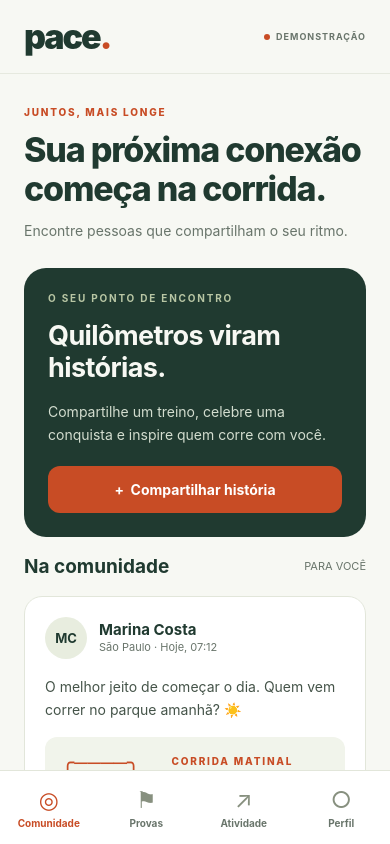
Scenario: filtra provas, mostra estado vazio e alterna interesse
This screenshot has width=390, height=844.
Click the text "Provas" at (146, 823), box [130,817,163,829]
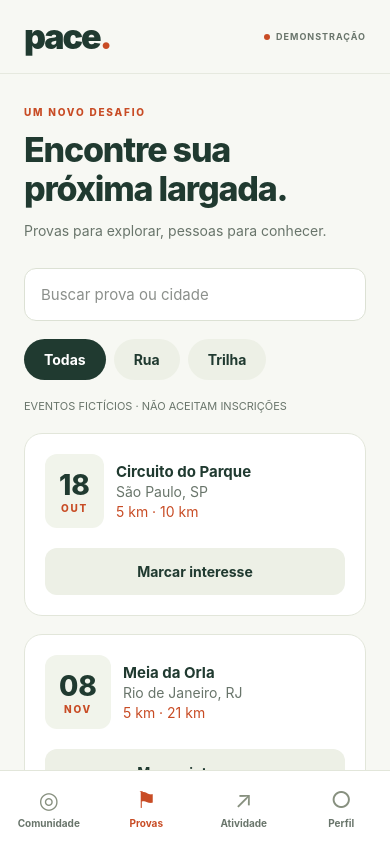
Click the button "Trilha" at (227, 360), box [188,339,266,380]
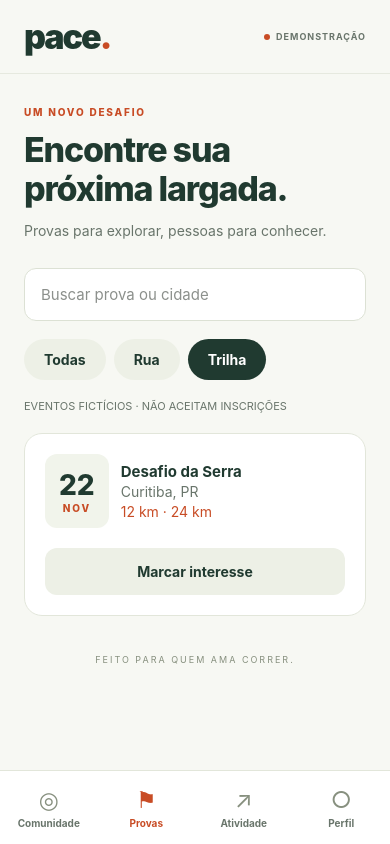
Expected: the text "Desafio da Serra" is shown, [121,462,242,481]
Expected: the text "Circuito do Parque" is gone
Click the button "Marcar interesse" at (195, 572), box [45,548,345,595]
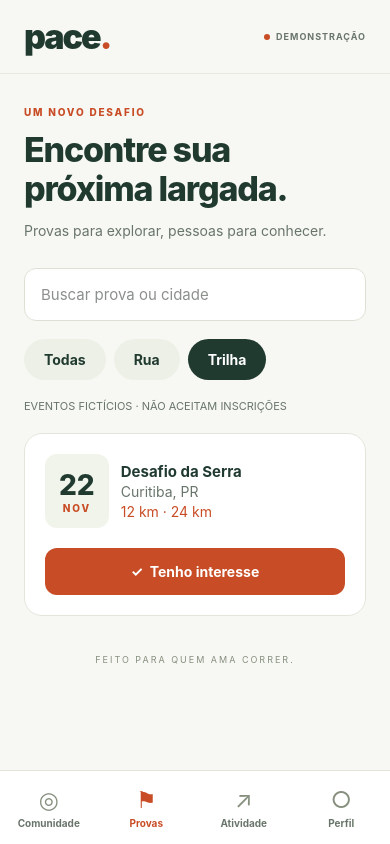
Expected: the text "✓ Tenho interesse" is shown, [131,563,259,580]
Click the button "✓ Tenho interesse" at (195, 572), box [45,548,345,595]
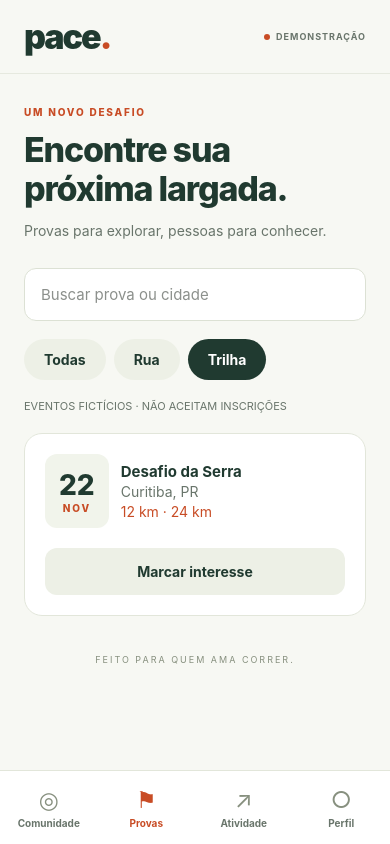
Expected: the text "Marcar interesse" is shown, [137,563,253,580]
Type "cidade inexistente" into the field named "Buscar provas por nome ou cidade" at (195, 294), box [24,268,366,321]
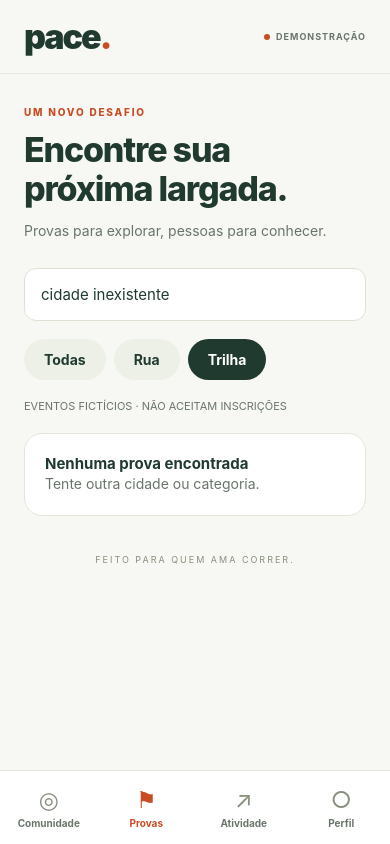
Expected: the text "Nenhuma prova encontrada" is shown, [45,454,248,473]
Replace the text in the field named "Buscar provas por nome ou cidade" with "Curitiba" at (195, 294), box [24,268,366,321]
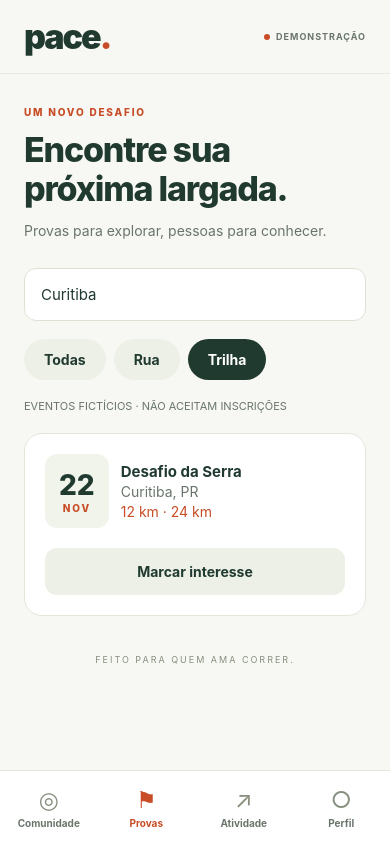
Expected: the text "Desafio da Serra" is shown, [121,462,242,481]
